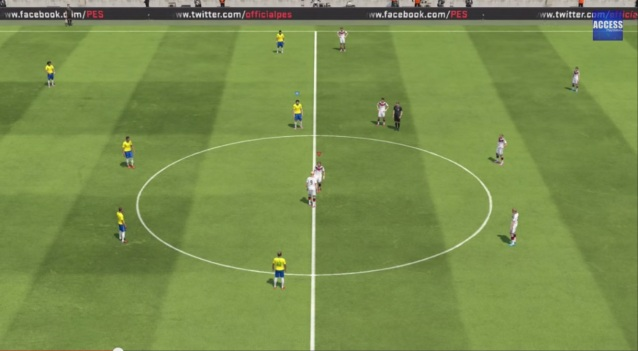player: (270, 251, 287, 289), (113, 205, 128, 242), (122, 134, 137, 167), (307, 172, 318, 208), (509, 207, 519, 246), (43, 59, 56, 88), (293, 99, 304, 130), (377, 95, 387, 127), (337, 24, 347, 52), (275, 28, 286, 53), (571, 65, 581, 92), (497, 132, 505, 165), (320, 158, 323, 188)
